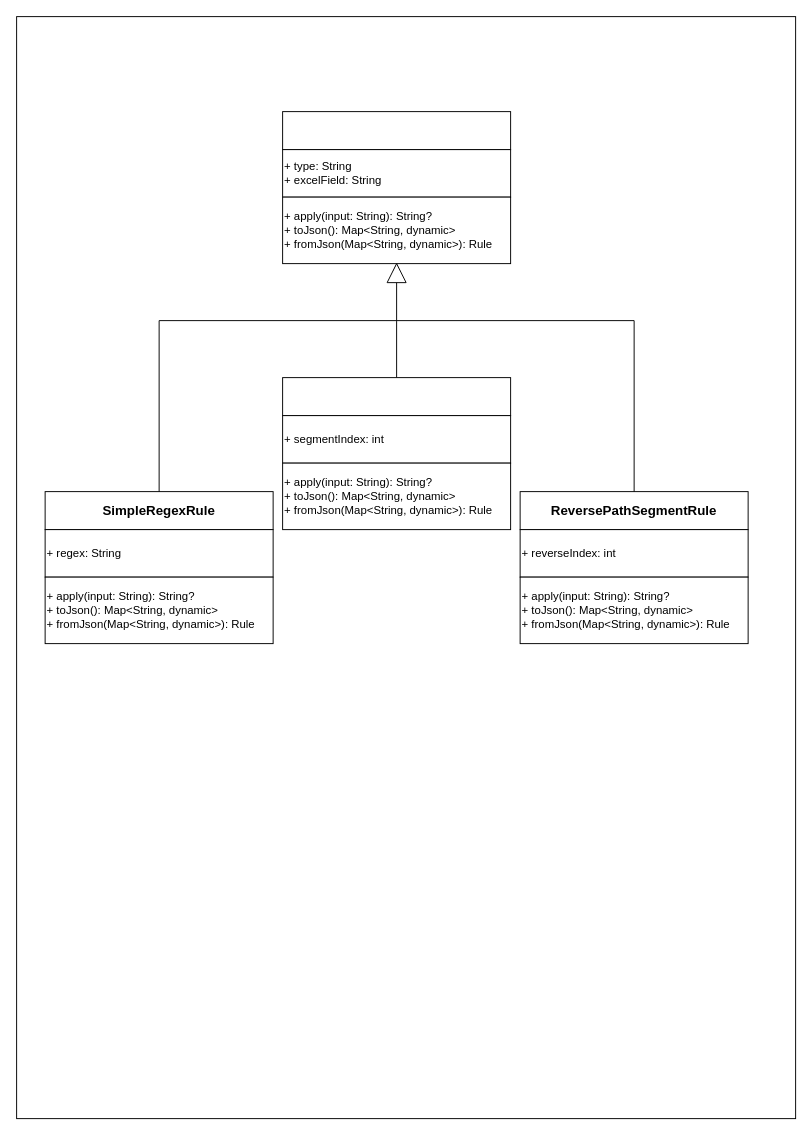
Image size: 812x1135. Some labels were removed from this diagram. Each missing label, with the centre of its shape:
PathSegmentRule: (396,396)
Rule <<abstract>>: (396,130)
